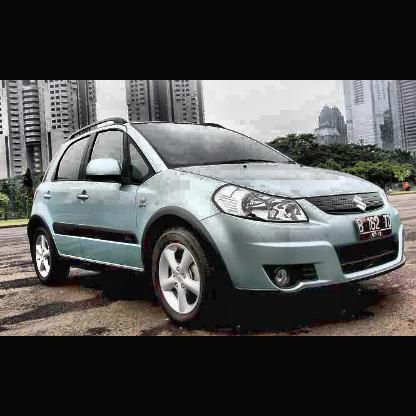Suzuki SX4 Hatchback 2012: (28, 116, 410, 321)
